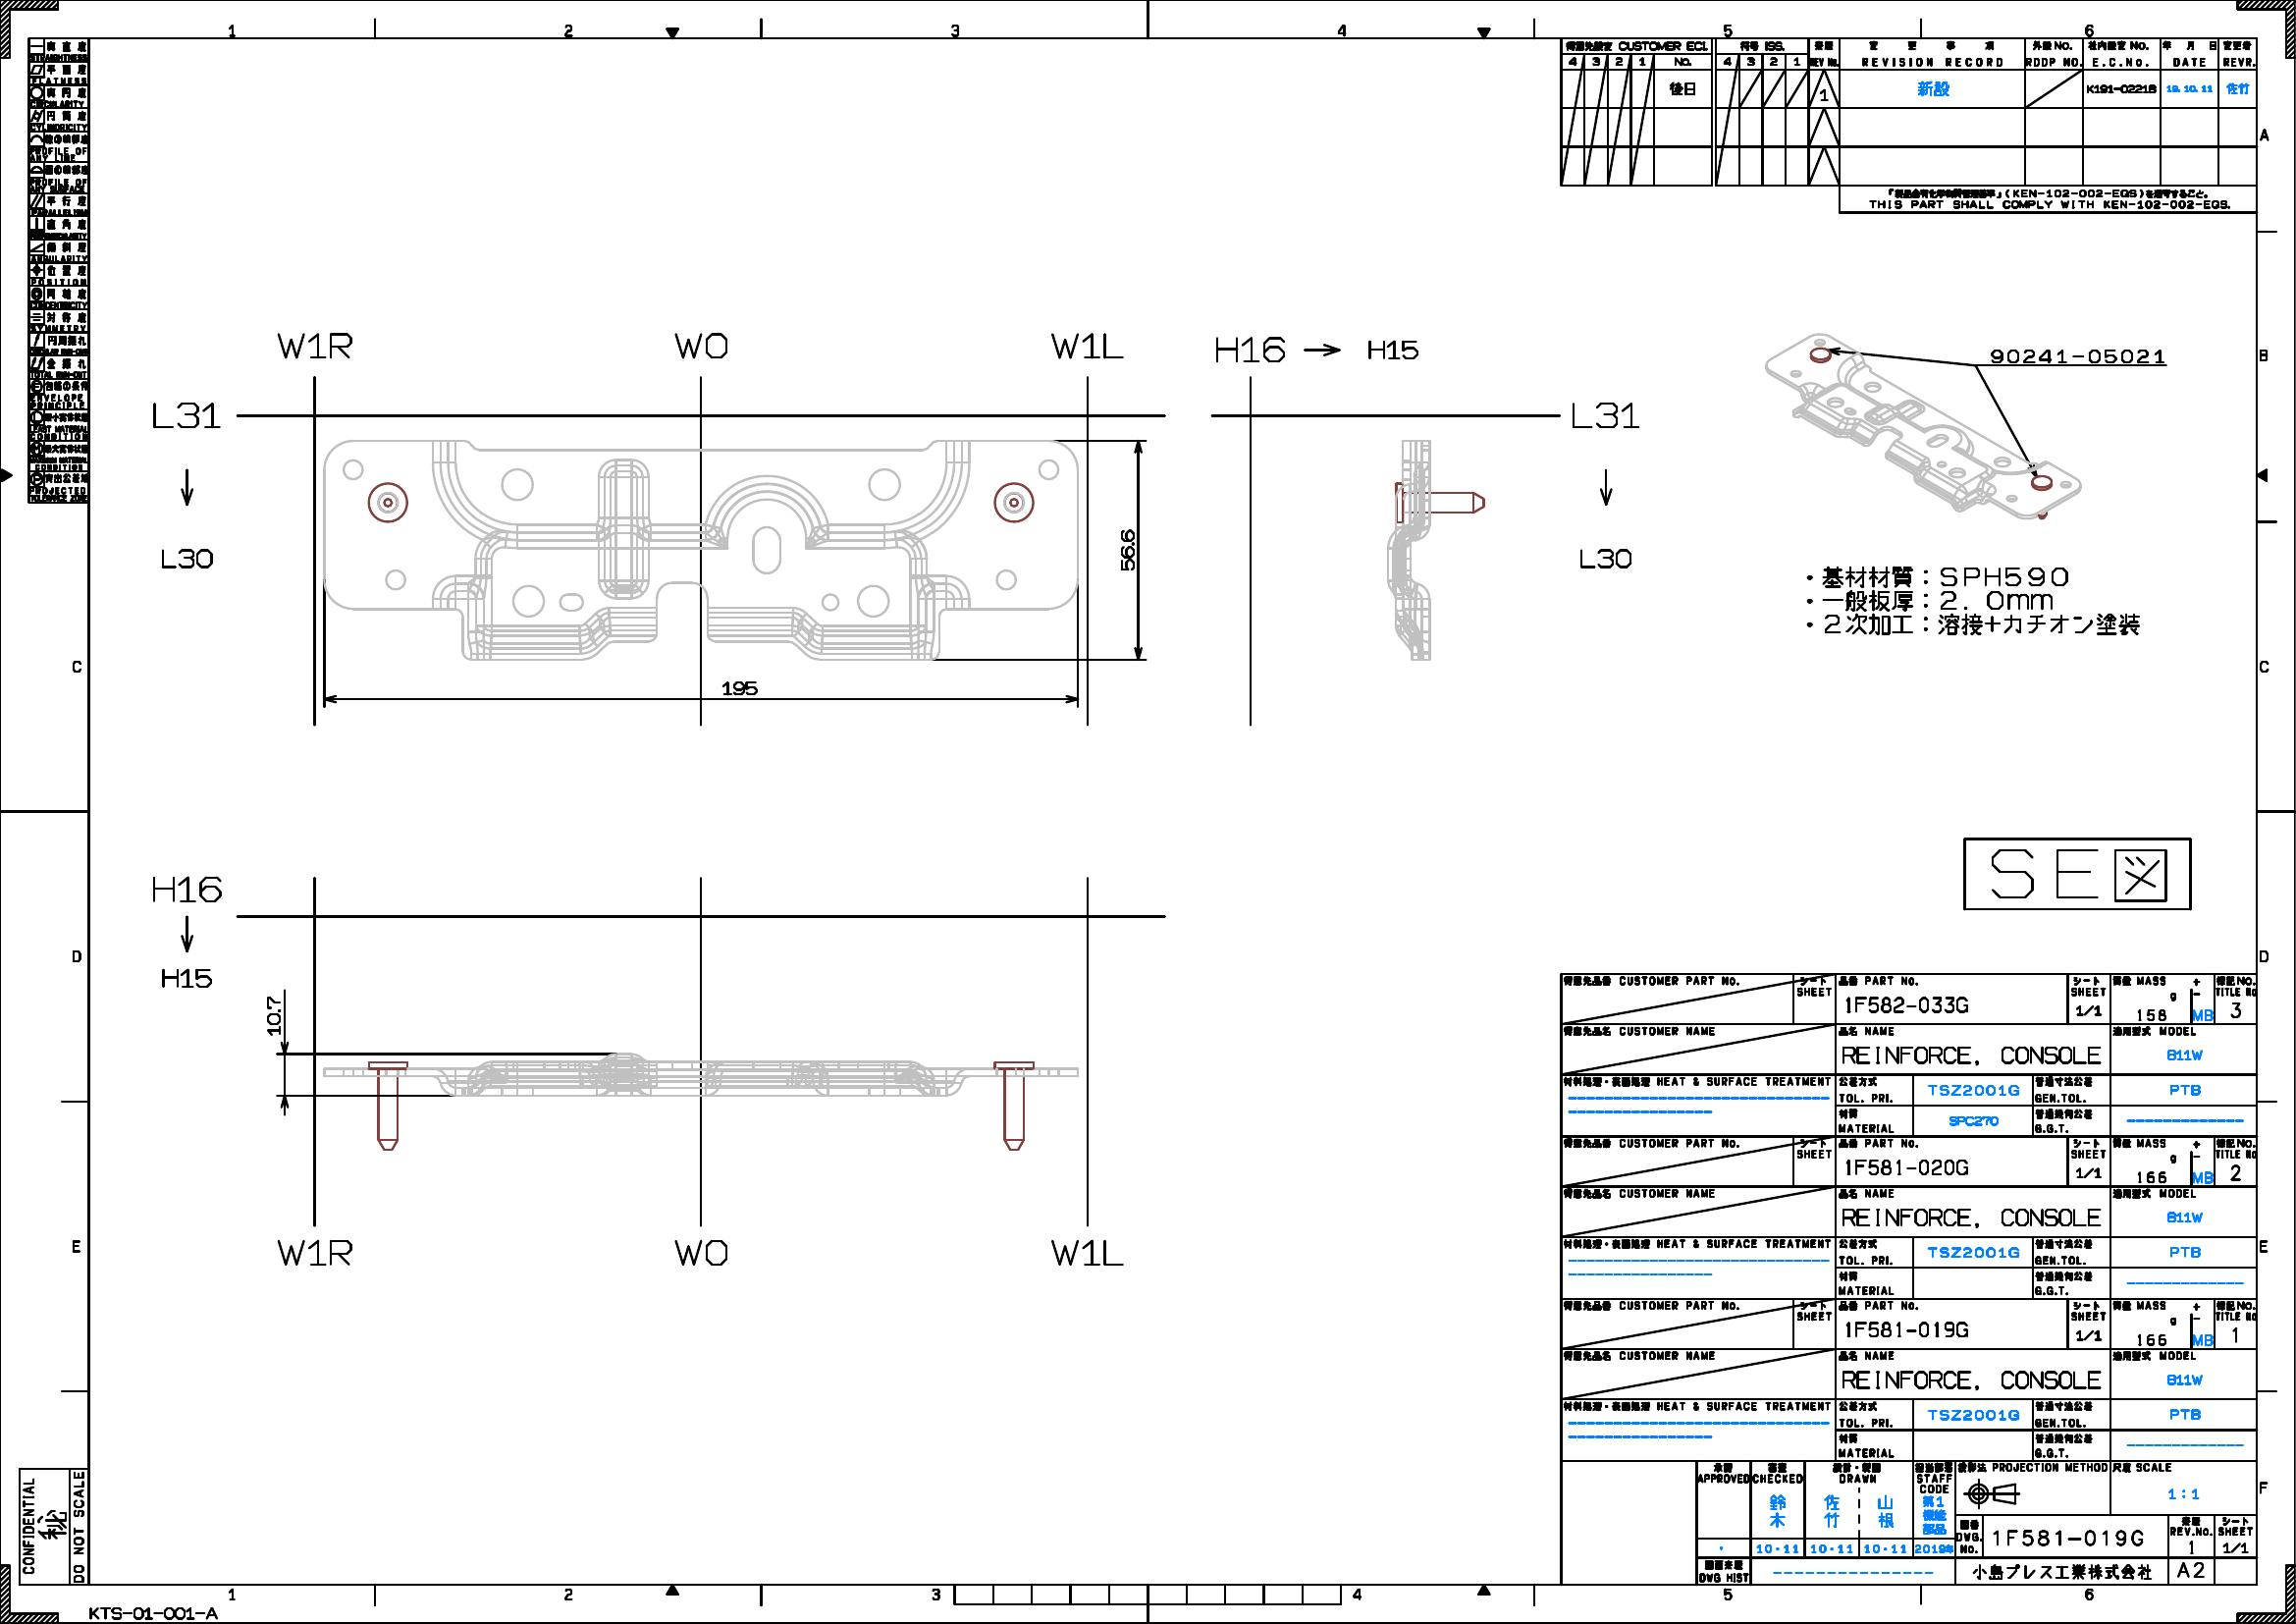anntotation_text: (1799, 561, 2147, 643), (1964, 838, 2192, 910), (1839, 185, 2256, 211), (19, 1468, 88, 1585), (1987, 344, 2170, 366), (278, 1232, 360, 1269), (274, 325, 360, 360), (148, 872, 227, 909), (1049, 325, 1126, 362), (1049, 1234, 1126, 1269), (148, 397, 221, 432), (1567, 397, 1641, 432), (1212, 332, 1284, 367), (671, 1234, 738, 1269), (671, 329, 736, 364), (88, 1605, 220, 1620), (156, 541, 218, 573), (156, 961, 218, 991), (1576, 547, 1635, 571), (1363, 337, 1423, 362)
dimension_text: (264, 991, 283, 1035), (1119, 526, 1135, 573), (722, 677, 759, 696)
object: (321, 439, 1079, 661), (325, 1051, 1079, 1149), (1765, 332, 2082, 520), (1388, 439, 1484, 659)
title_block: (1560, 975, 2257, 1585), (1560, 39, 2256, 185), (28, 37, 91, 504)
